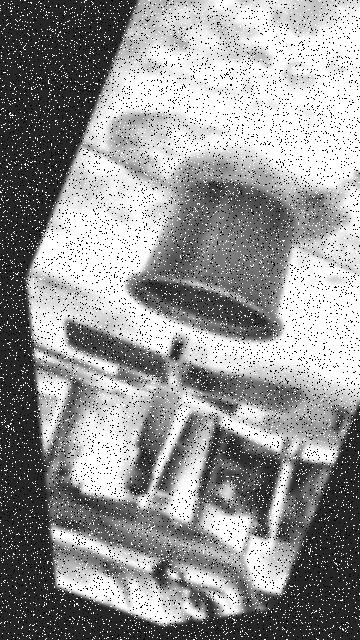pot: (127, 180, 293, 341)
